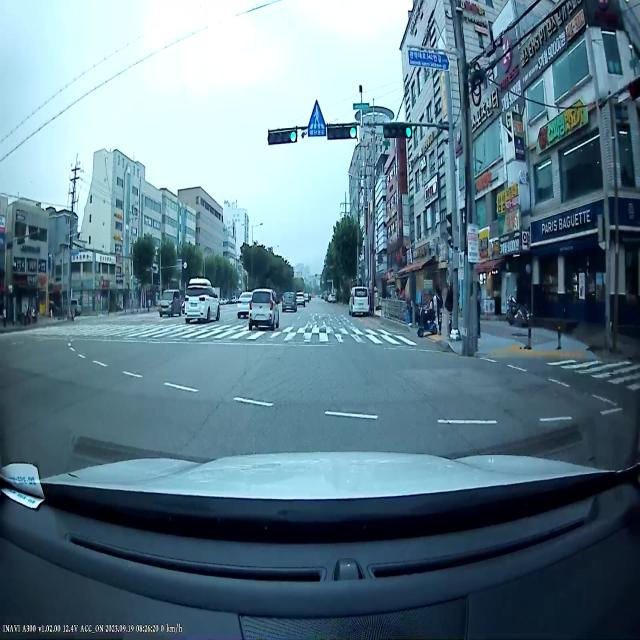Green Light: (405, 125, 413, 138), (350, 126, 357, 138), (290, 130, 296, 144)
